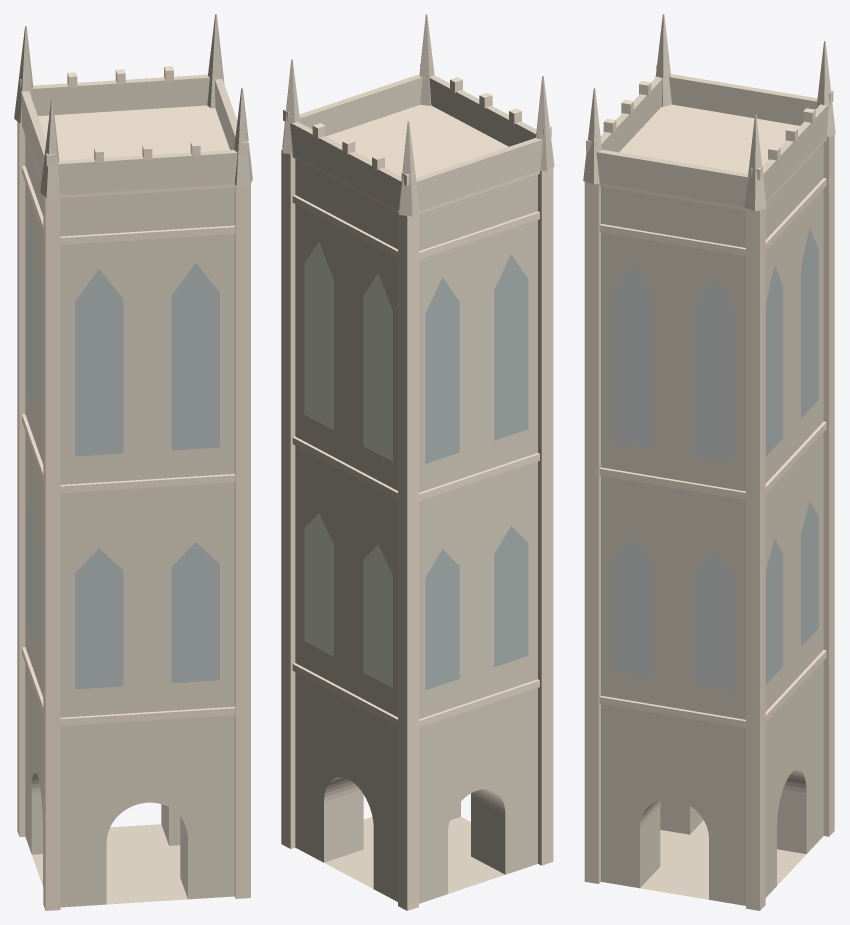
The model's file is detail.glb.
The picture shows the model from 3 angles, left to right: view 1: azimuth 30°, elevation 25°; view 2: azimuth 150°, elevation 25°; view 3: azimuth 270°, elevation 25°; orthographic projection. The views are drawn at different scales.
Visible parts, largest first — view 1: stone, trim, window; view 2: stone, trim, window; view 3: stone, trim, window.
Boxes of the visible parts, x1,y1,x2,y2 form: stone: (14, 14, 252, 907); trim: (17, 66, 250, 910); window: (27, 217, 219, 689); stone: (282, 14, 554, 903); trim: (281, 64, 553, 910); window: (304, 242, 528, 690); stone: (583, 14, 835, 905); trim: (584, 65, 834, 910); window: (613, 227, 818, 691).
Bounding box in the file's own units: 15.51 × 52 × 15.04.
